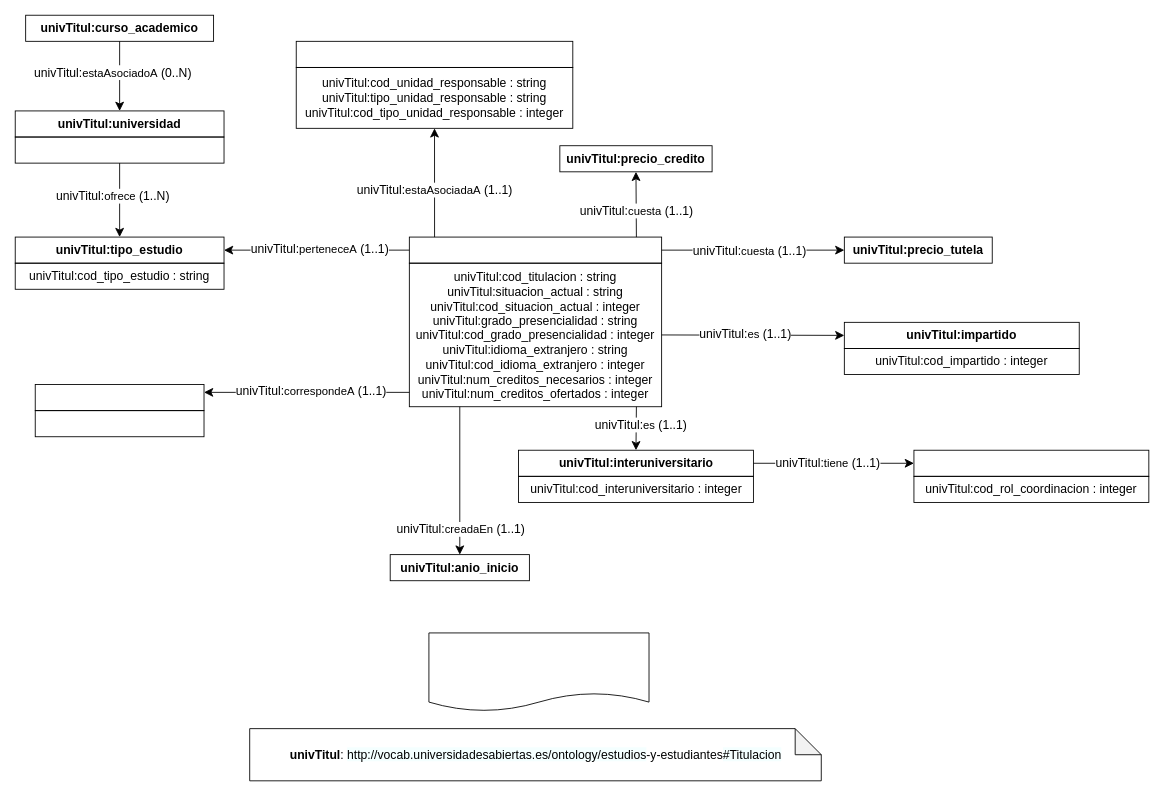
This 1164x796 diagram has some shape labels left out. The centre of each missing label's shape, as x and y in pixels:
"dc:creator: Víctor Morcuende owl:versionInfo: 0.0.1 dc:title: Template Ontology" goes at point 538,671.
"univTitul :rama" goes at point 119,397.
"univTitul :rol_coordinacion" goes at point 1031,462.
"univTitul :titulacion" goes at point 535,249.
"univTitul:cod_rama : integer" goes at point 119,423.
"univTitul:cod_universidad : string" goes at point 119,149.
"univTitul:unidad_responsable" goes at point 434,53.
